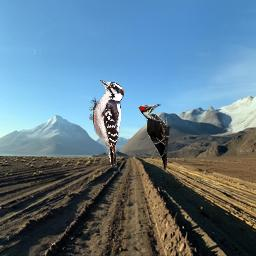Woodpecker: (89, 79, 125, 170), (138, 103, 171, 174)
